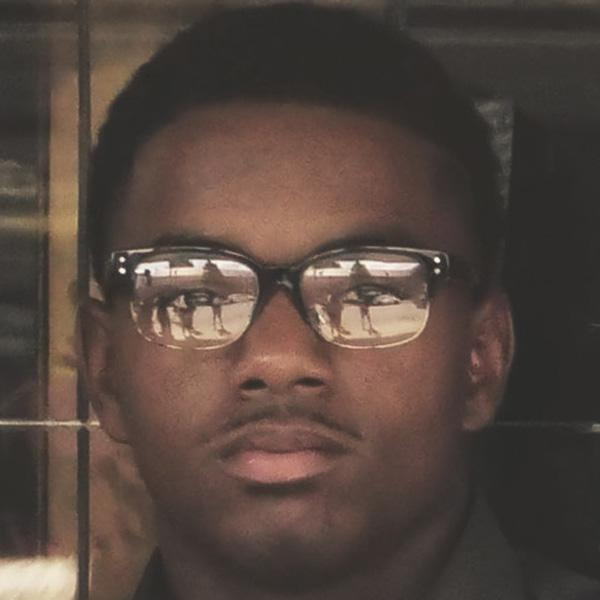Eyes: (154, 271, 241, 328), (329, 272, 410, 322)
